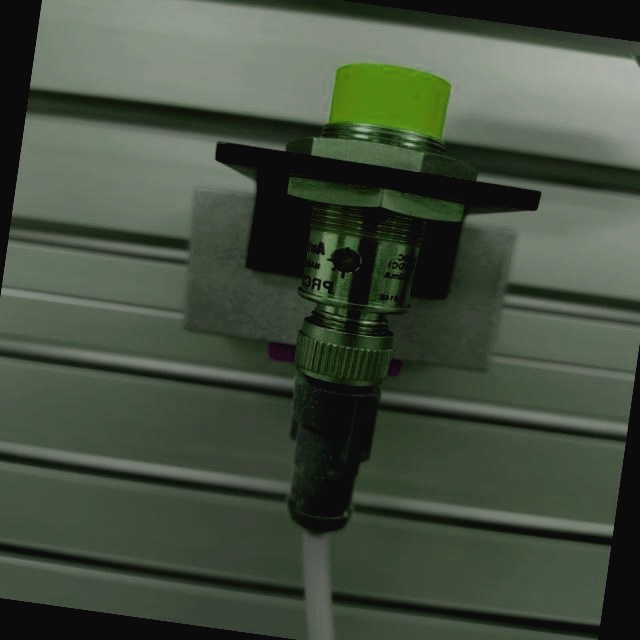inductive sensor: (133, 31, 561, 566)
